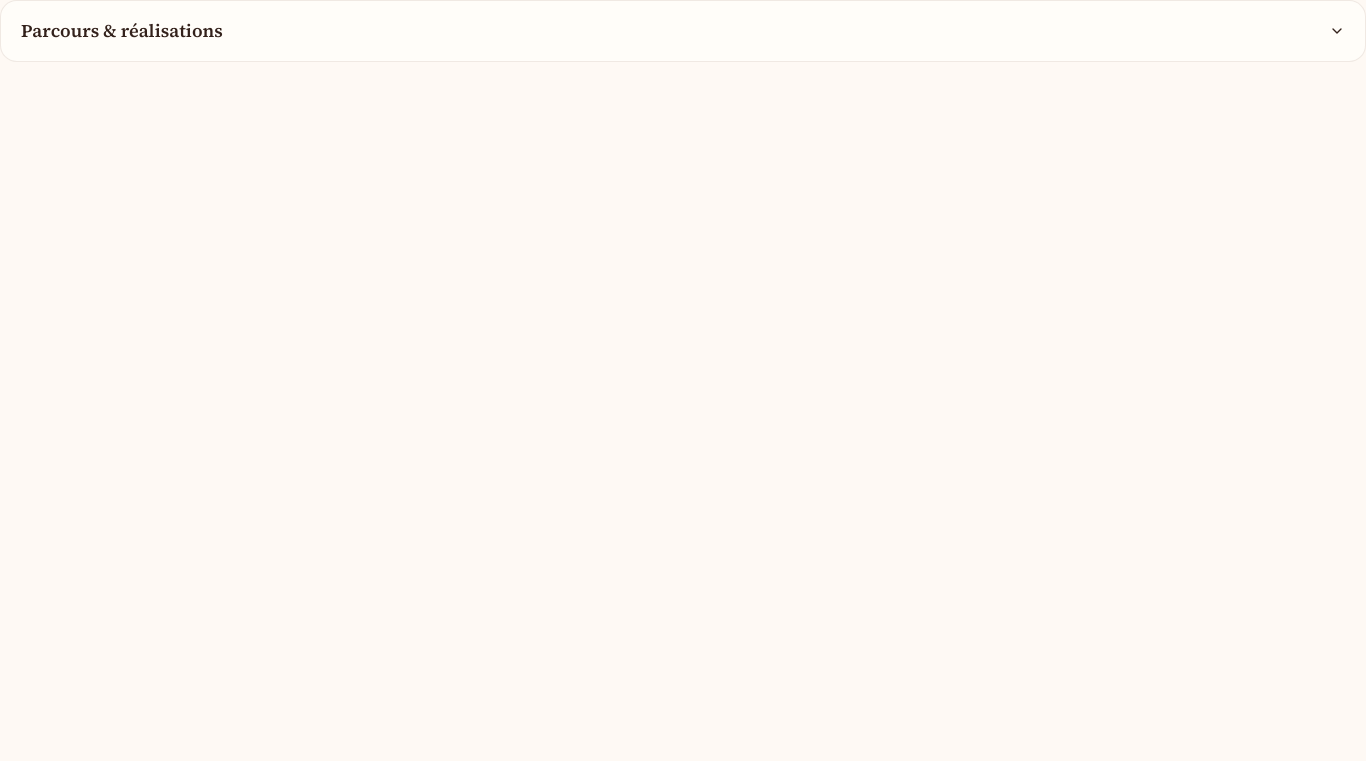
Test: ParcoursContentForm › adds and removes items in a string array editor
Click the button "Parcours & réalisations".
click(122, 30)  # box [1,1,1365,61]
(page scrolled)
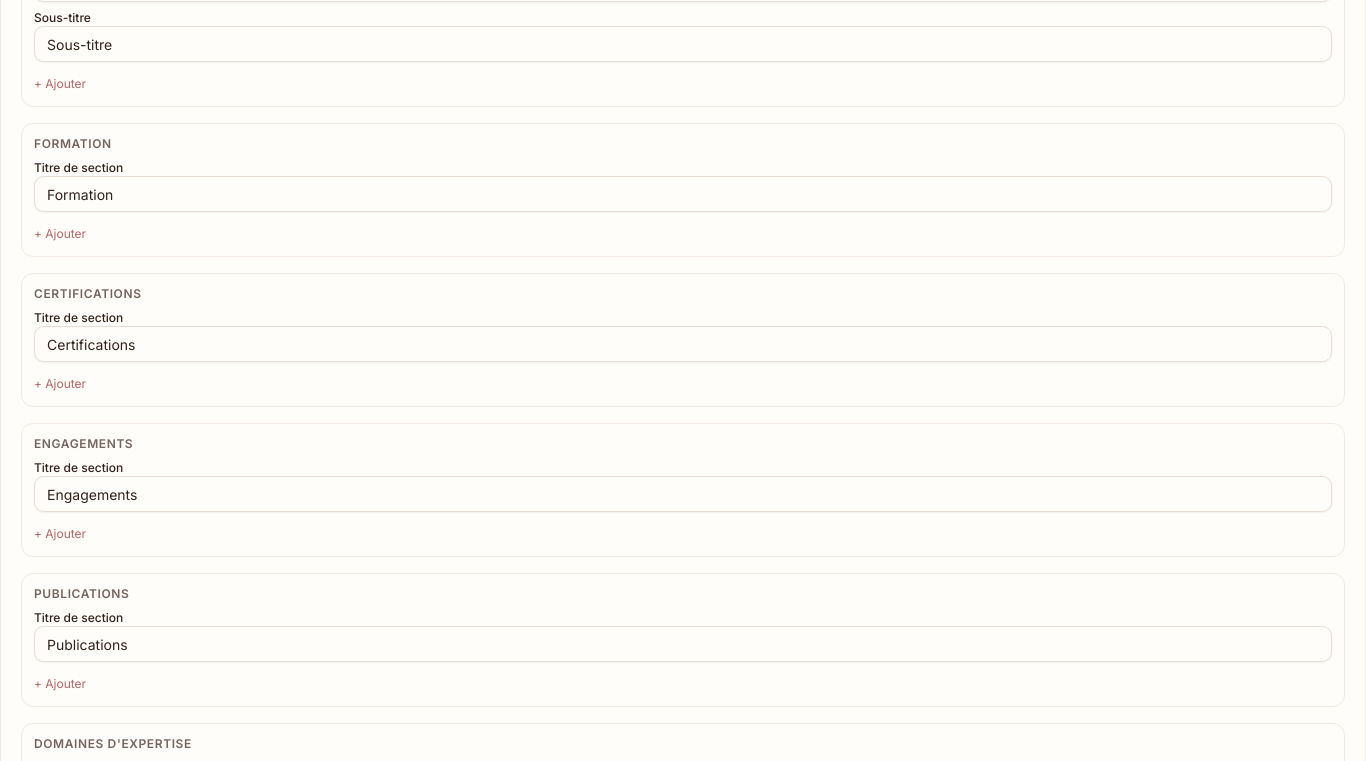
Click the button "+ Ajouter" below "Certifications".
click(60, 384)  # box [34,376,86,392]
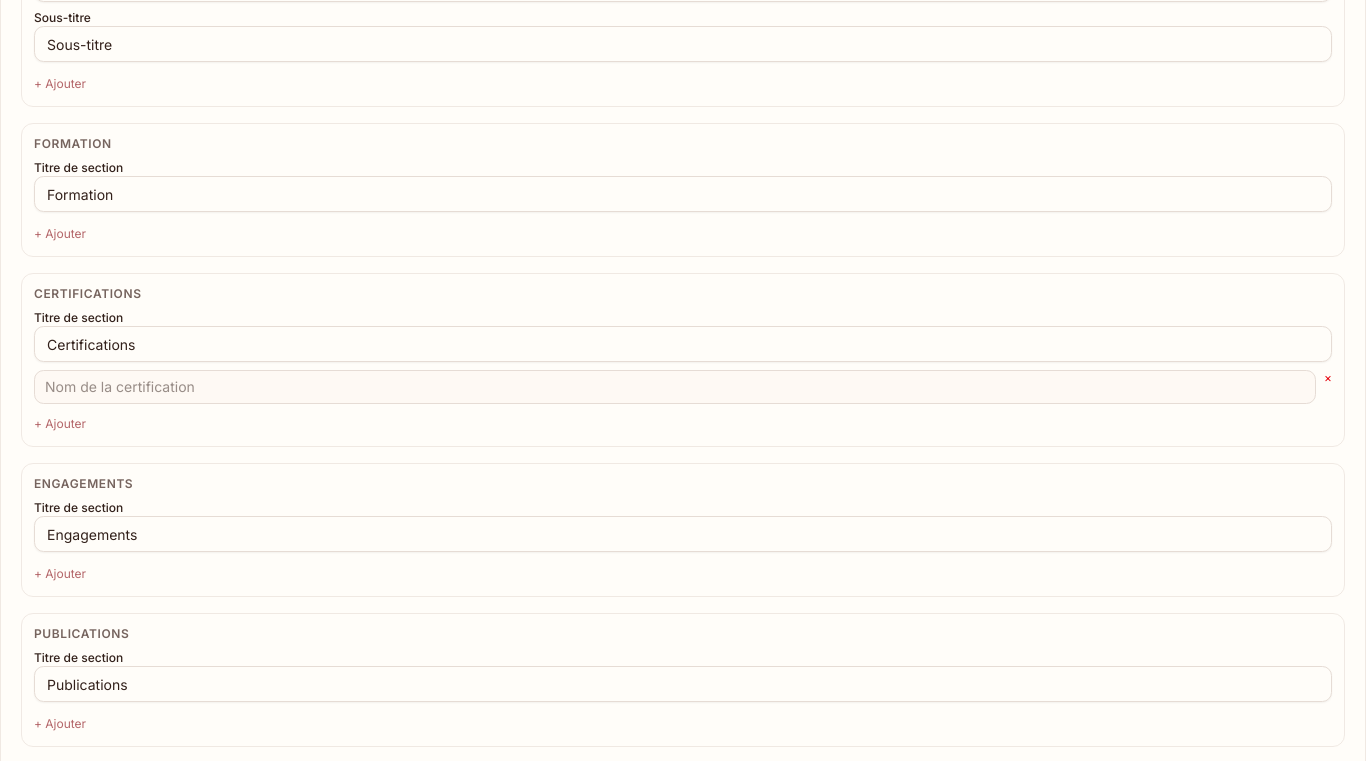
Expected: the number of buttons "×" is 1
Click the button "×".
click(1328, 378)  # box [1324,370,1332,386]
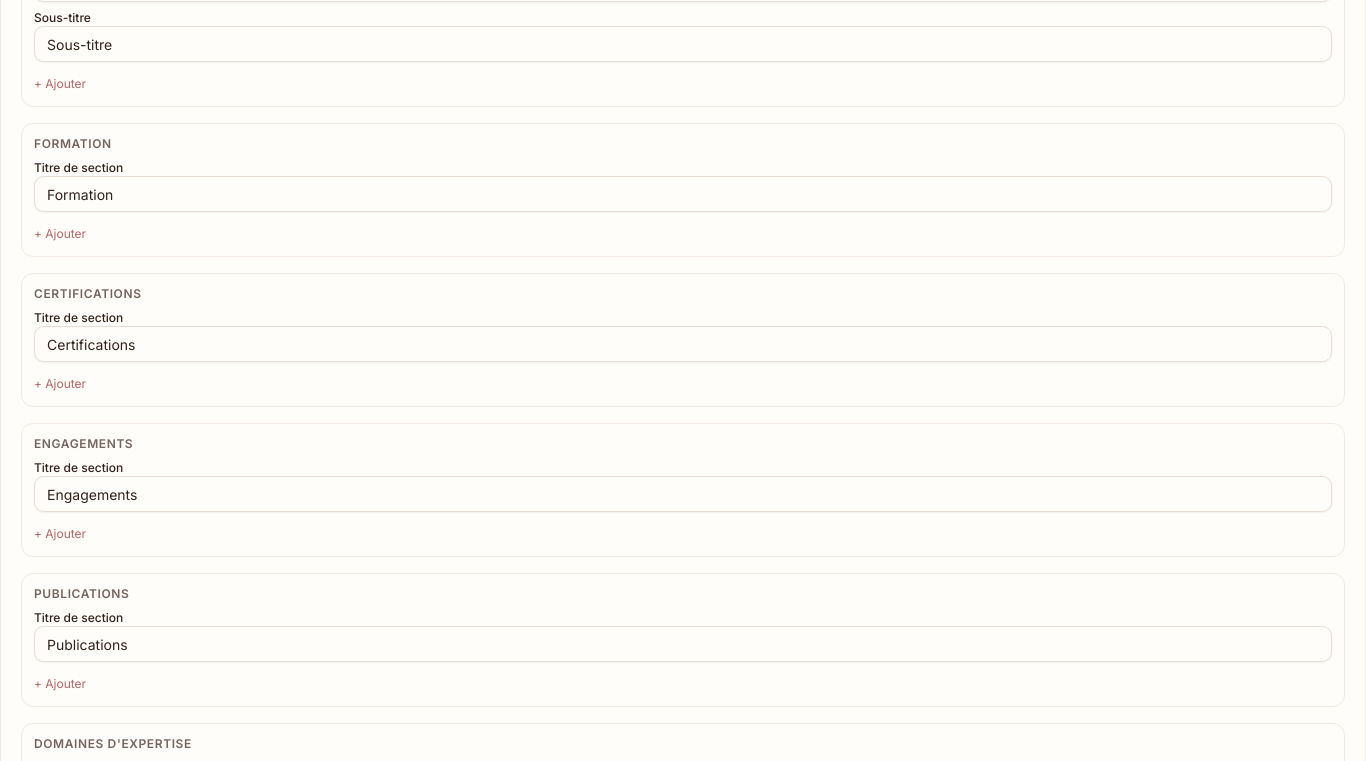
Expected: the button "×" is gone
